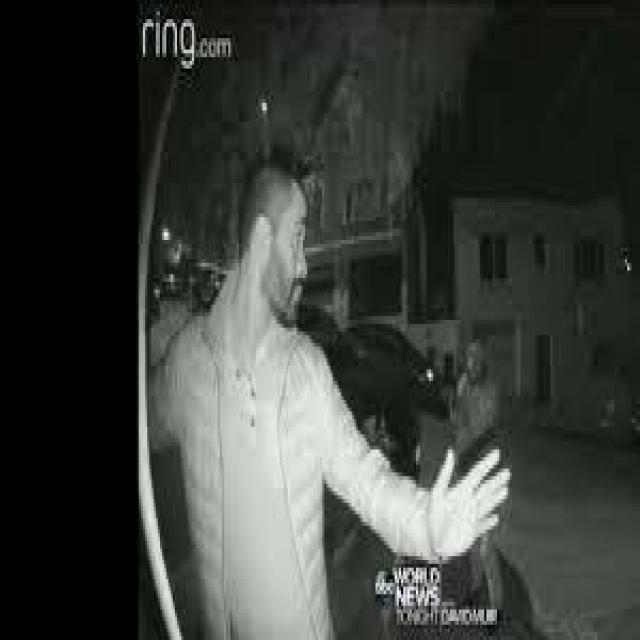weapon: (433, 362, 459, 419)
